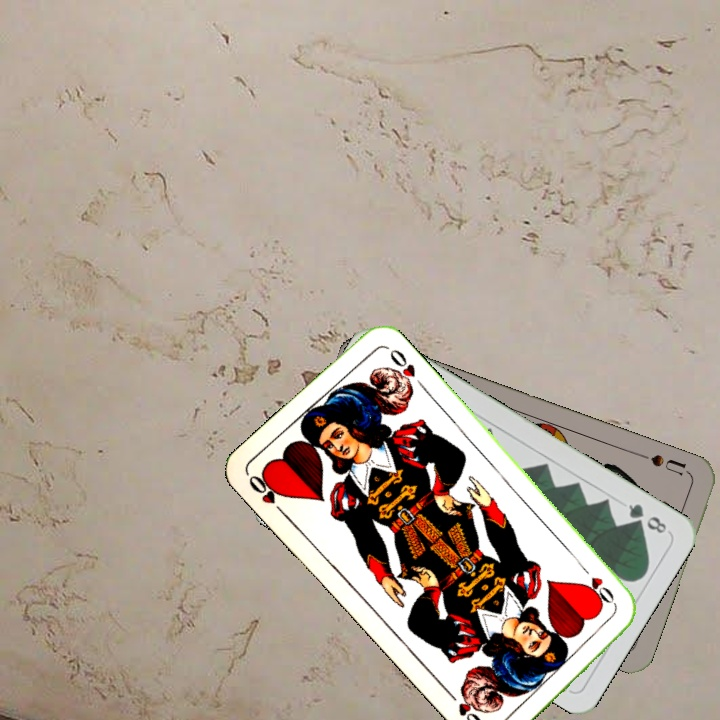G8: (624, 499, 672, 536)
HO: (244, 468, 289, 519), (576, 561, 620, 610)
SU: (635, 450, 692, 478)
